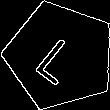L_NE: (31, 26, 89, 85)
